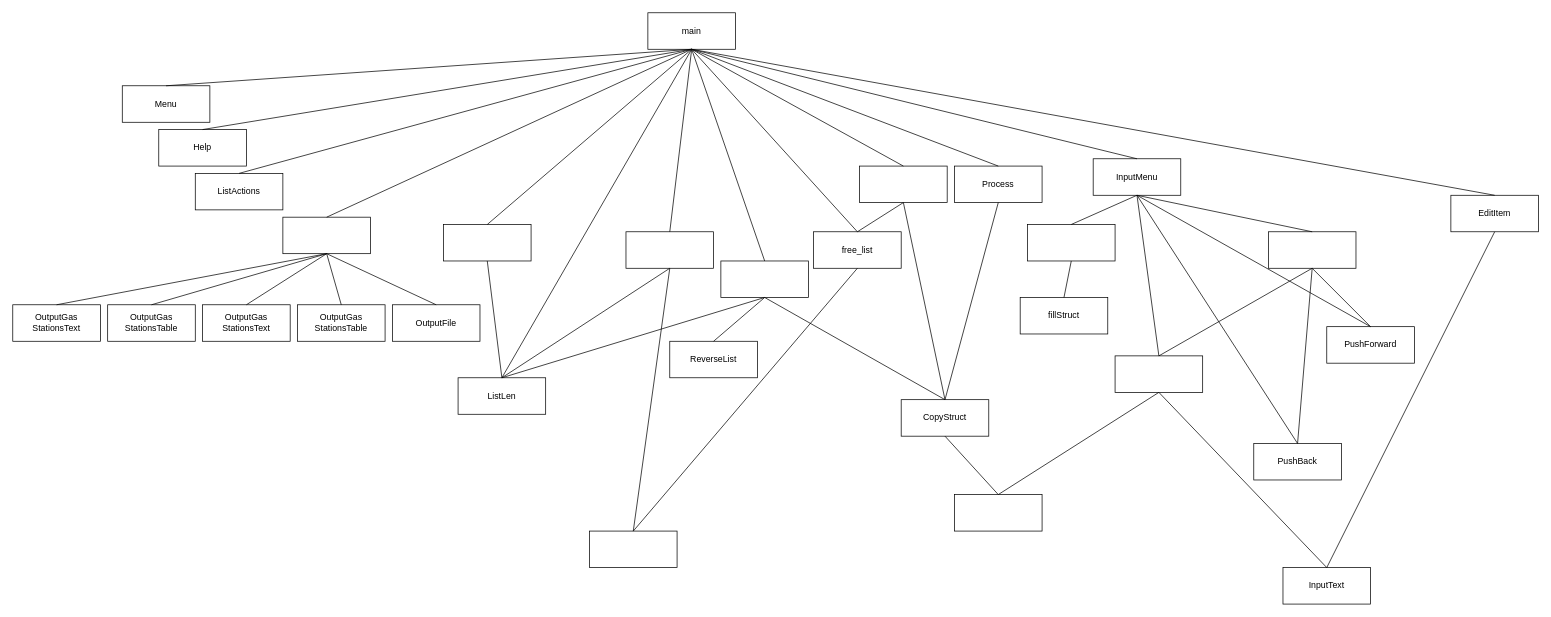
The diagram is 1551 pixels wide and 617 high, and some of its shapes have lost their labels. The shapes that lost their labels are listed below. From the top down, each one's centre as x and y in pixels, then its label:
At point 903,184: "GetItem".
At point 326,235: "OutputMenu".
At point 487,242: "Swap".
At point 669,249: "DeleteItem".
At point 1071,242: "InputTextFile".
At point 1312,249: "PushAnyPlace".
At point 764,278: "Sort".
At point 1158,373: "InputStations".
At point 998,512: "PrepareStruct".
At point 633,549: "free_station".
